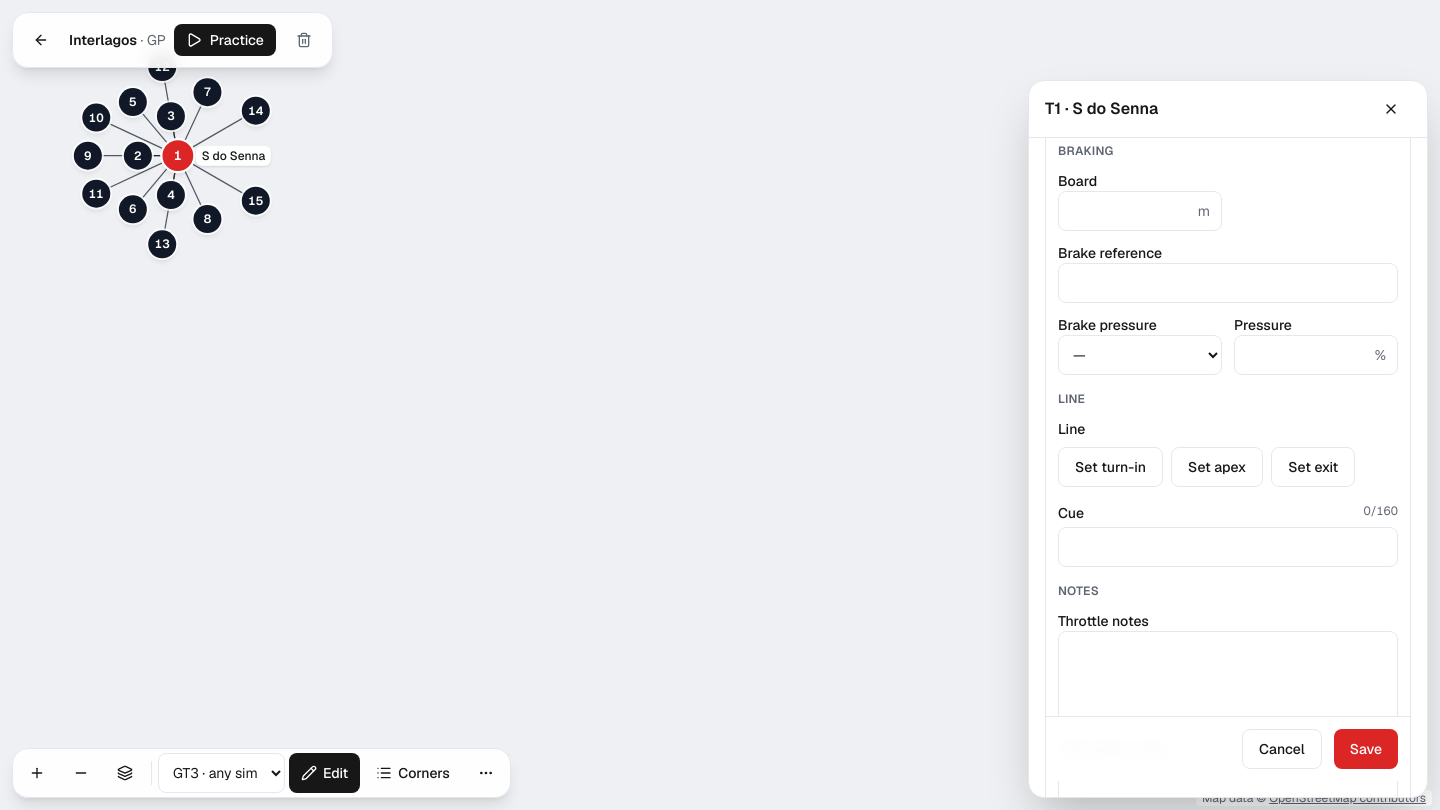
Test: TrackViewPage edit mode › closes a menu opened over a pick on Escape before cancelling the pick
(page scrolled)
Click the button "Set apex" at x=1217, y=467, box [1171,447,1263,487]
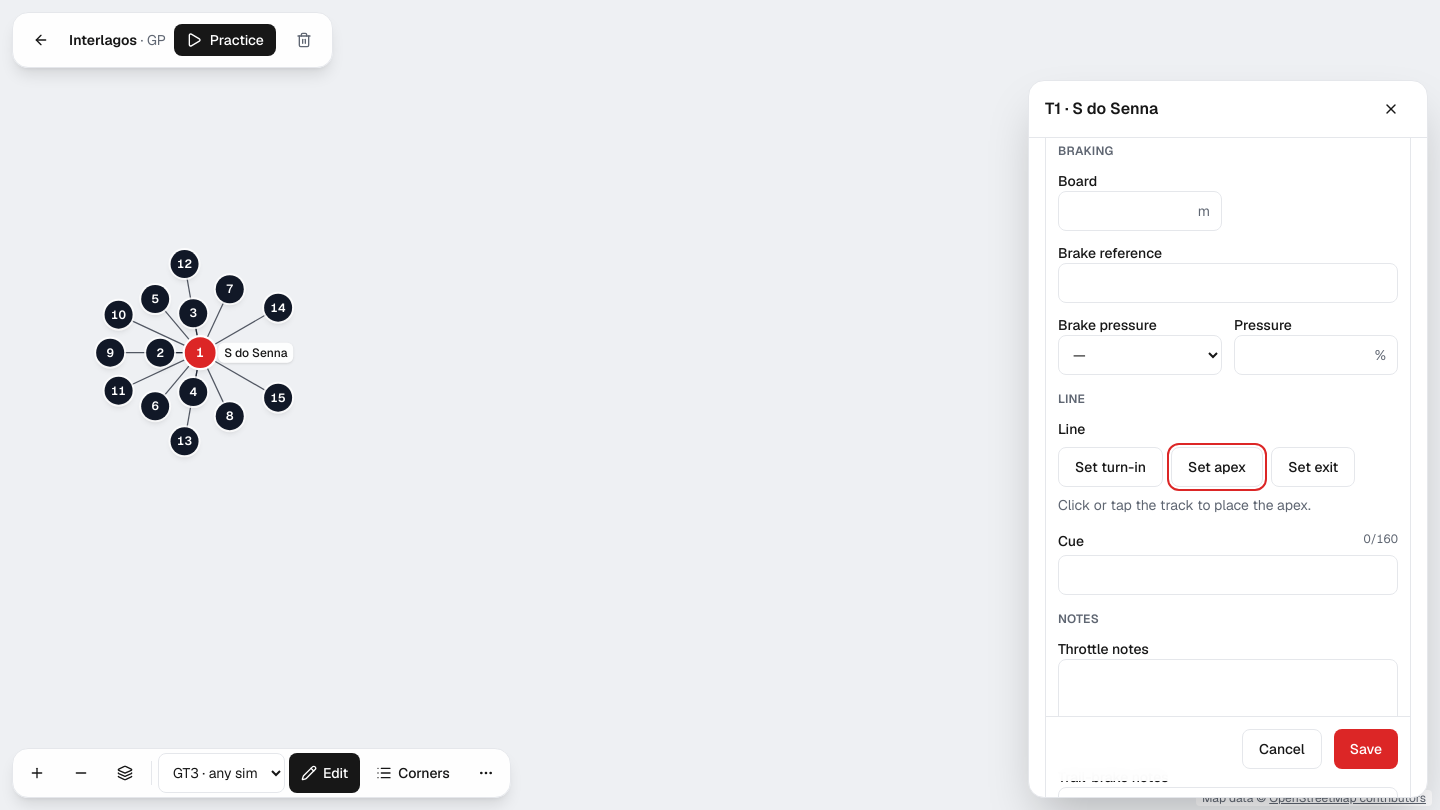
Expected: the text "Click or tap the track to place the apex." is shown, [1058,496,1311,514]
Click the button named "Layers" at x=125, y=773, box [105,753,145,793]
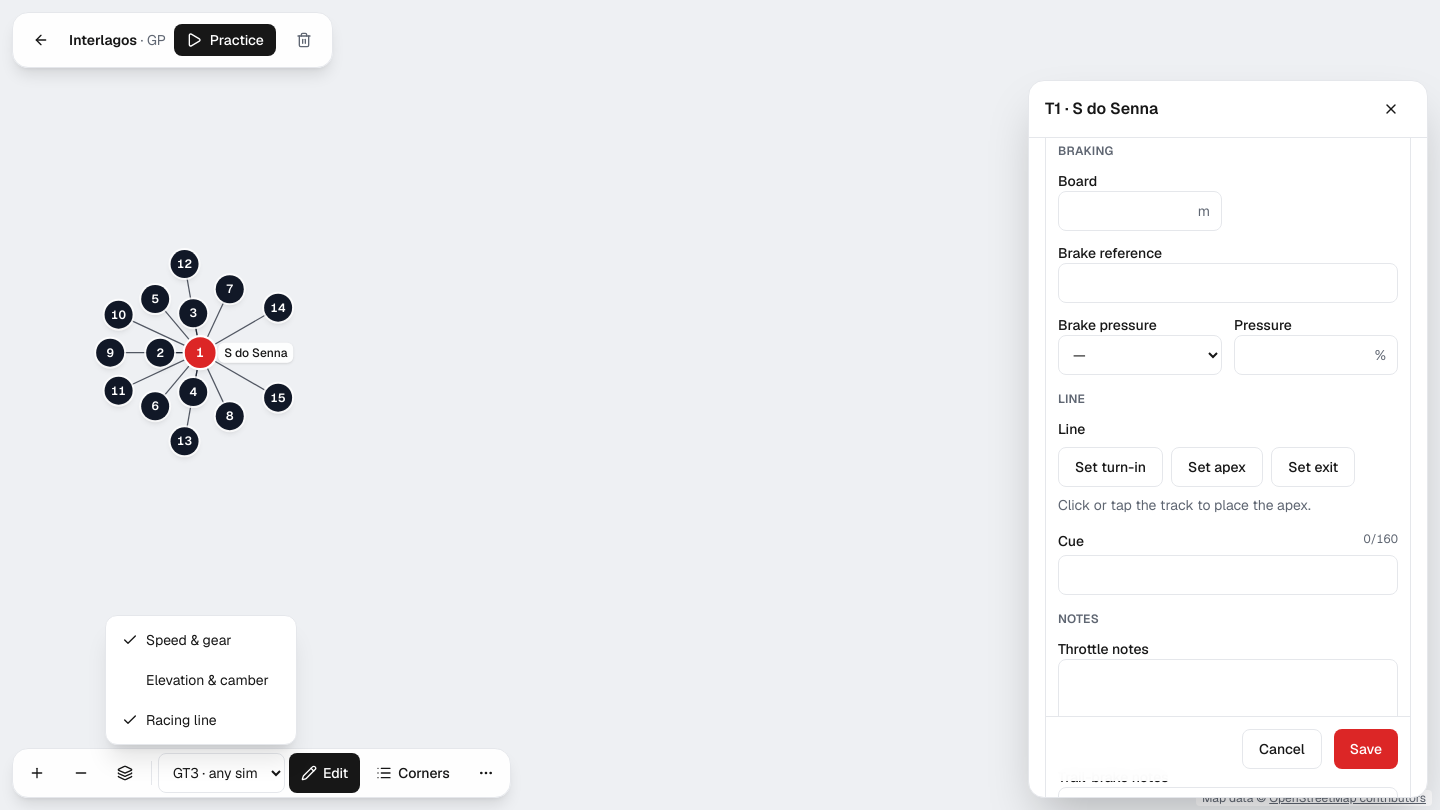
Expected: the menu is shown, [105,615,297,745]
Press Escape
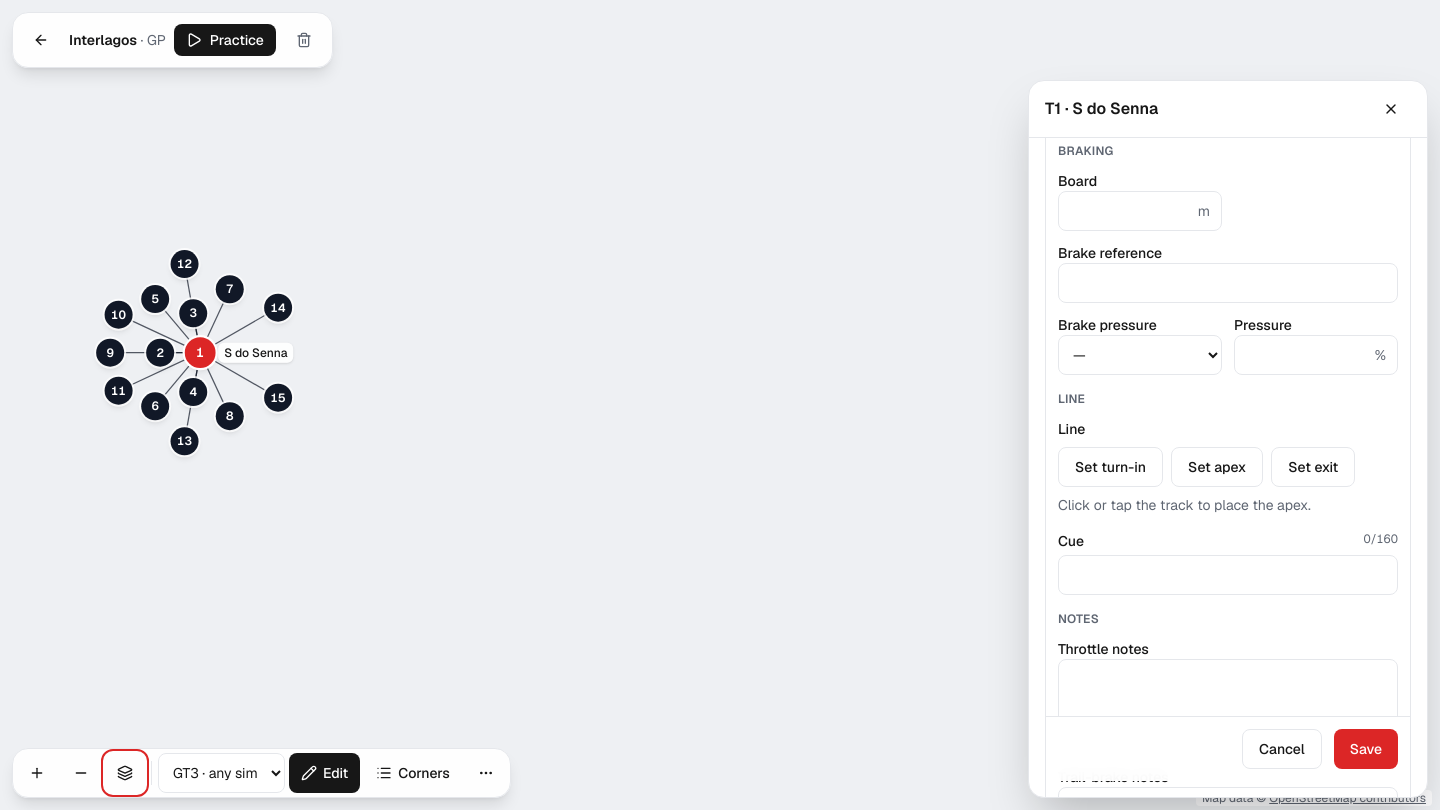
Expected: the text "Click or tap the track to place the apex." is shown, [1058,496,1311,514]
Expected: the menu is gone
Press Escape
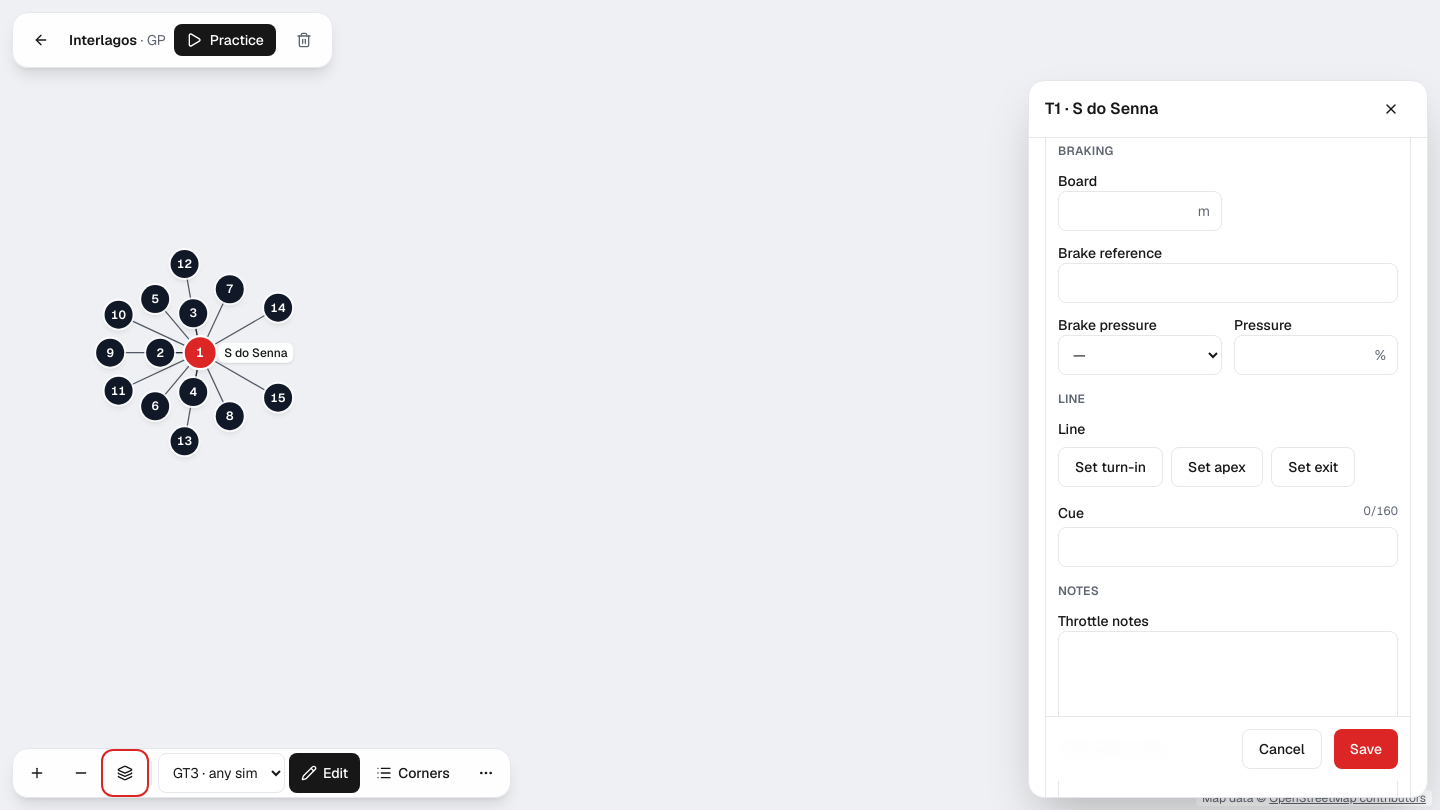
Expected: the element with test id "side-panel" is shown, [1028,80,1428,798]
Expected: the text "Click or tap the track" is gone
